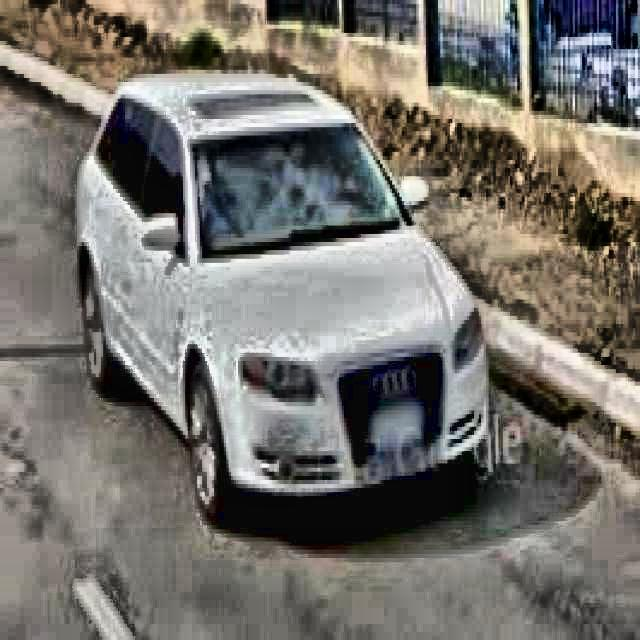carro: (78, 66, 493, 522)
